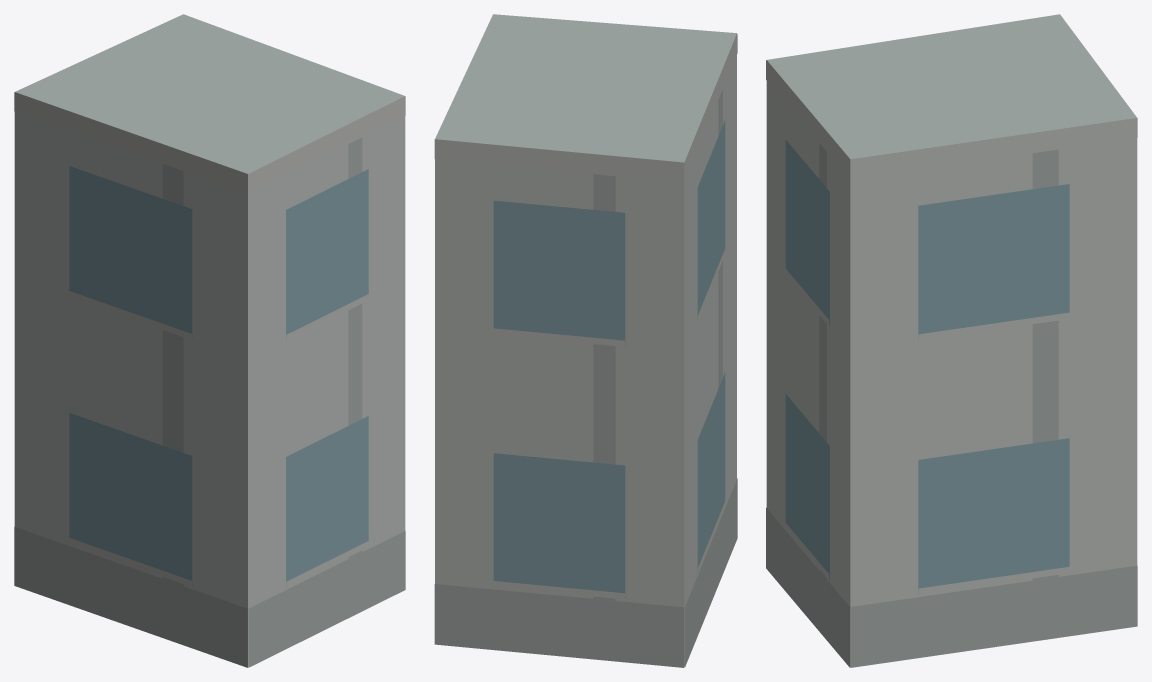
The model's file is survey-upis-32642190.glb.
3 views of the same model, side by side, from view 1: azimuth 30°, elevation 25°; view 2: azimuth 150°, elevation 25°; view 3: azimuth 270°, elevation 25° (orthographic). The views are drawn at different scales.
Parts seen in each view (by area): view 1: survey-upis-32642190.tmp; view 2: survey-upis-32642190.tmp; view 3: survey-upis-32642190.tmp.
Boxes of the visible parts, bbox=[...] form: survey-upis-32642190.tmp: bbox=[14, 14, 405, 667]; survey-upis-32642190.tmp: bbox=[434, 14, 737, 667]; survey-upis-32642190.tmp: bbox=[766, 14, 1137, 667].
Bounding box in the file's own units: 3.74 × 6.1 × 4.04.
